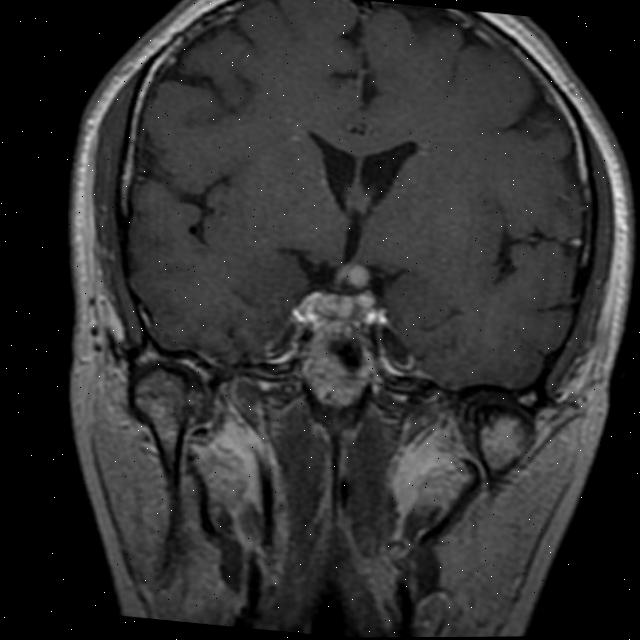Pituitary: (290, 281, 387, 413), (334, 262, 374, 288)
